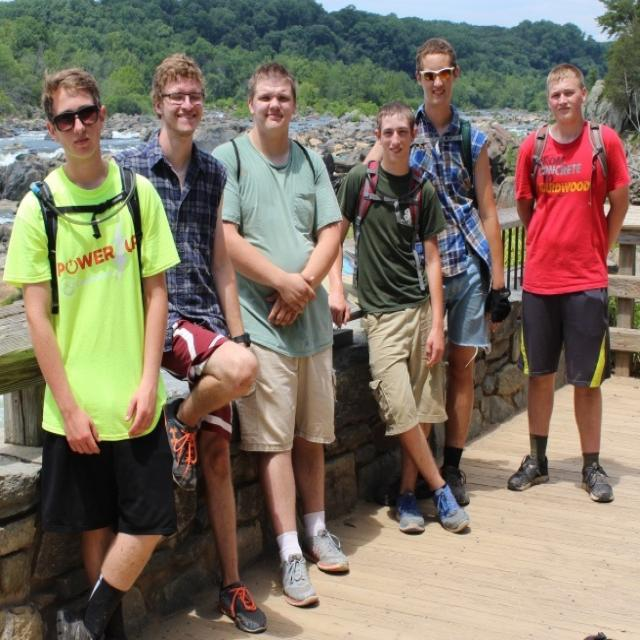body: (3, 62, 184, 639), (110, 50, 270, 635), (209, 60, 352, 609), (352, 35, 514, 509), (323, 98, 473, 536), (504, 62, 631, 507), (434, 434, 635, 509)
